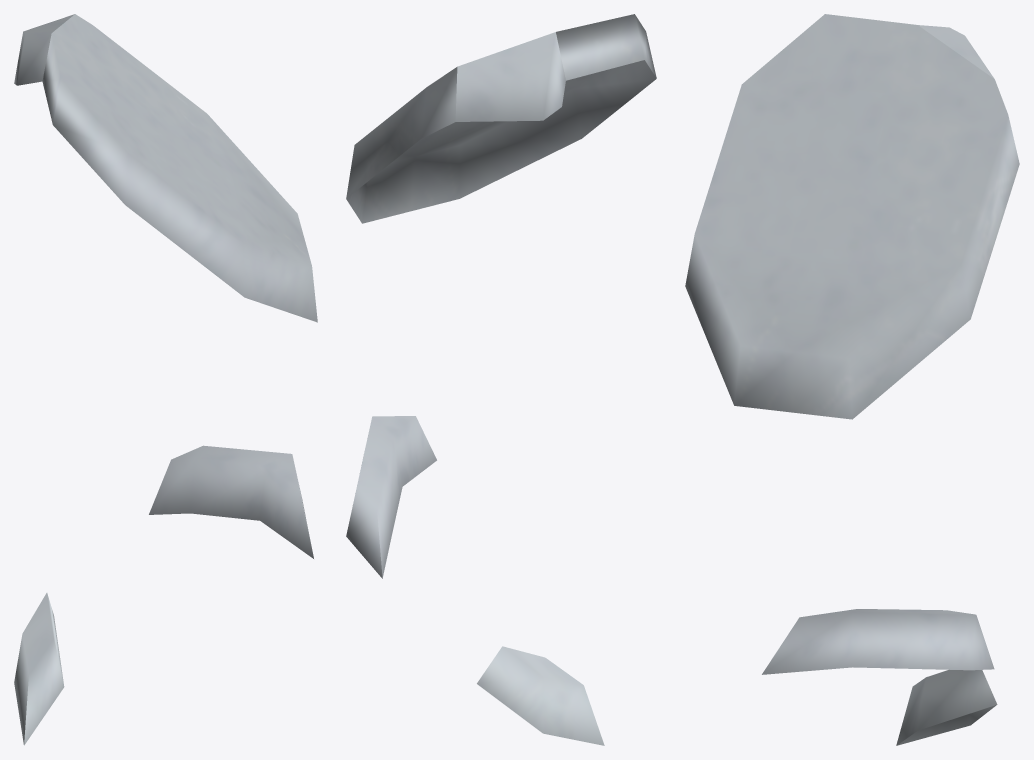
Rendered from Pillar_3_Snow.fbx.
The picture shows the model from 3 angles, left to right: view 1: azimuth 30°, elevation 25°; view 2: azimuth 150°, elevation 25°; view 3: azimuth 270°, elevation 25°; orthographic projection. The views are drawn at different scales.
Parts seen in each view (by area): view 1: Pillar_3_Snow; view 2: Pillar_3_Snow; view 3: Pillar_3_Snow.
Boxes of the visible parts, x1=… form: Pillar_3_Snow: x1=14, y1=14, x2=317, y2=745; Pillar_3_Snow: x1=346, y1=14, x2=656, y2=745; Pillar_3_Snow: x1=685, y1=14, x2=1019, y2=745.
Size of the model in its own units: 80.45 by 204 by 83.4.
